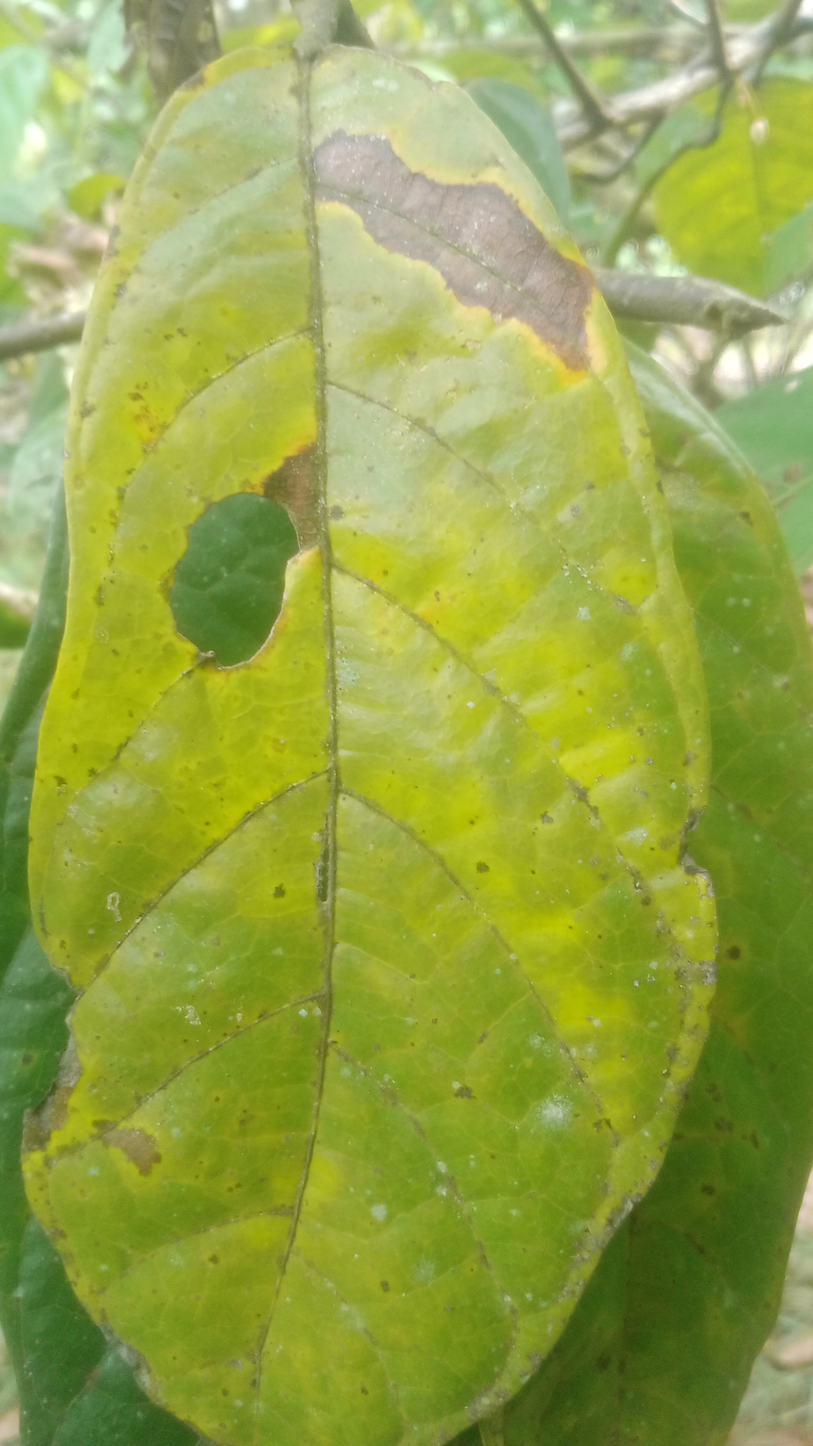deficiencia_potasio: (5, 5, 743, 1446)
